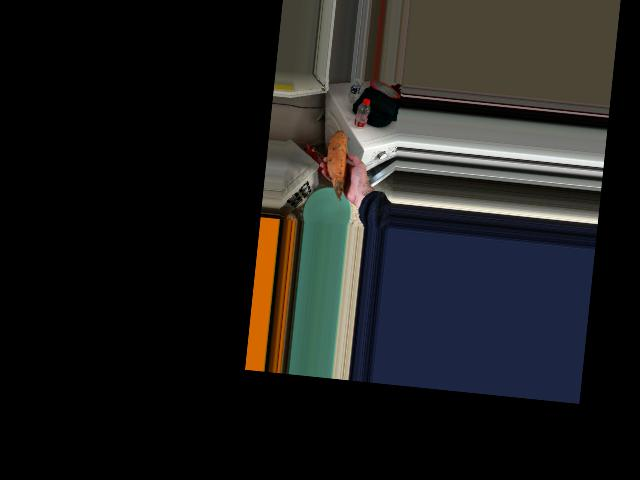sweet_potato: (327, 135, 351, 197)
